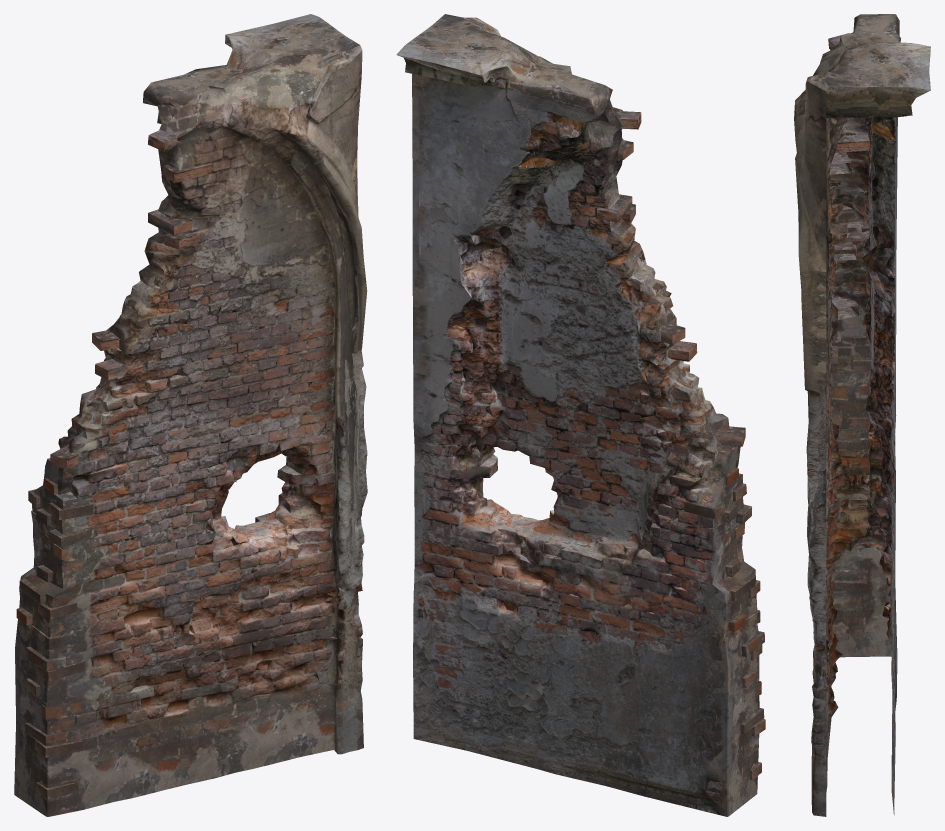
File: SM_ChapelWall_01_08.fbx
3 views of the same model, side by side, from view 1: azimuth 30°, elevation 25°; view 2: azimuth 150°, elevation 25°; view 3: azimuth 270°, elevation 25° (orthographic). The views are drawn at different scales.
Parts seen in each view (by area): view 1: sm_ChapelWall_01_08_LOD0; view 2: sm_ChapelWall_01_08_LOD0; view 3: sm_ChapelWall_01_08_LOD0.
Boxes of the visible parts, x1,y1,x2,y2 form: sm_ChapelWall_01_08_LOD0: (14, 14, 367, 816); sm_ChapelWall_01_08_LOD0: (396, 14, 765, 816); sm_ChapelWall_01_08_LOD0: (794, 14, 930, 816).
Size of the model in its own units: 94.78 by 267 by 559.
